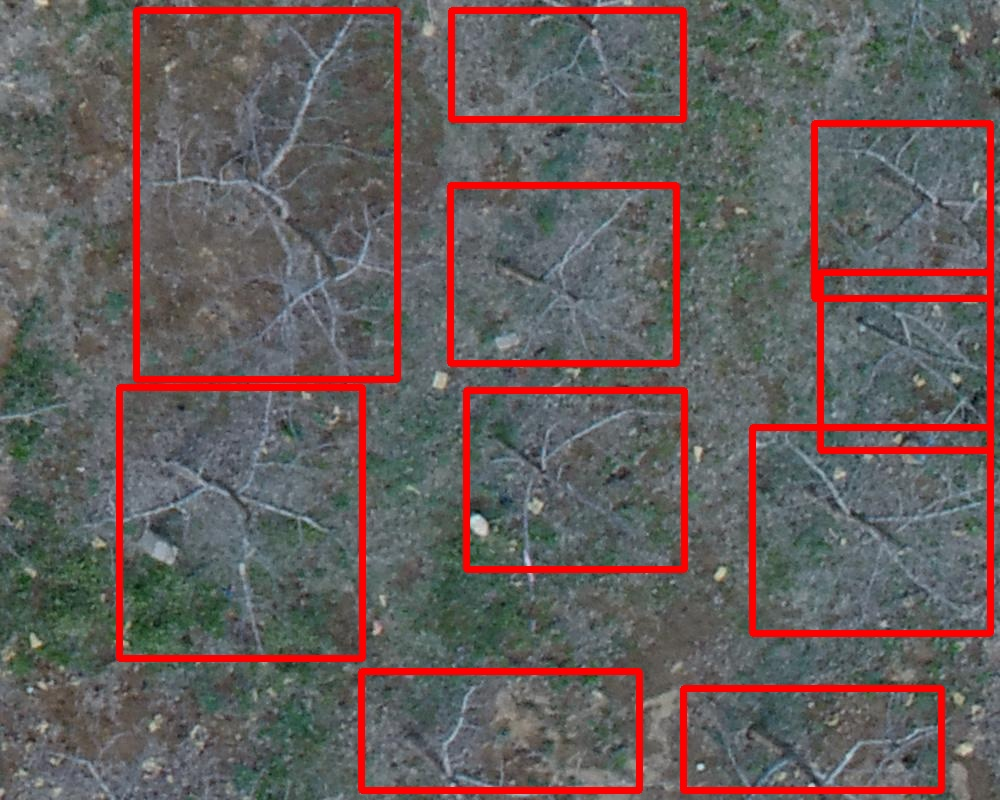apple: (136, 10, 397, 379), (119, 387, 362, 658), (752, 427, 990, 633), (450, 185, 676, 363), (466, 390, 684, 569), (361, 671, 639, 790), (814, 123, 990, 298), (820, 272, 990, 450), (683, 688, 941, 790), (451, 10, 683, 119)
